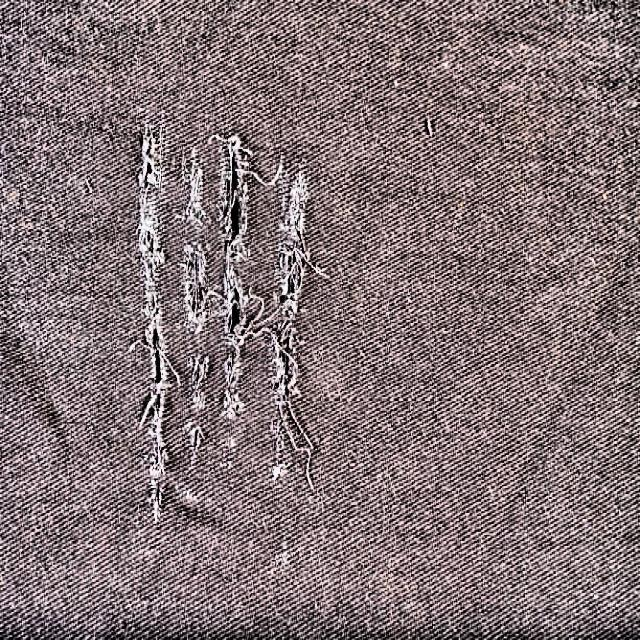gray stitch: (119, 94, 175, 529), (265, 129, 322, 542), (217, 128, 264, 521), (180, 129, 216, 537)
